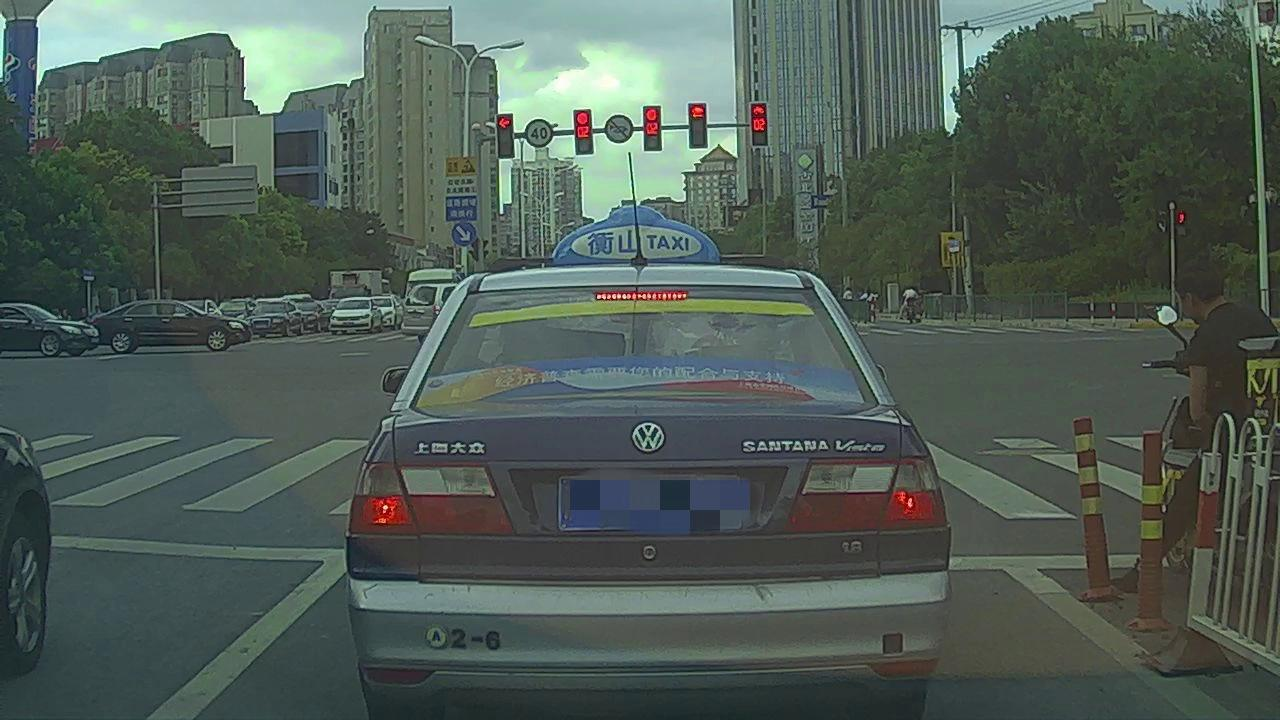traffic_light: (573, 112, 594, 157), (645, 104, 661, 150), (750, 103, 767, 146), (690, 104, 706, 149), (498, 114, 513, 158)
